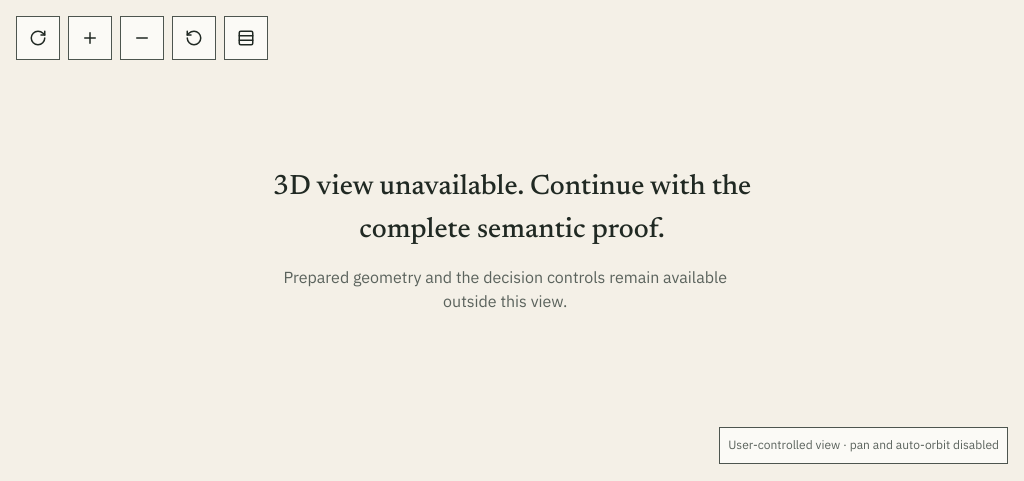
Test case: prepared scene canvas resilience › shows the error-boundary fallback without removing semantic controls
The image size is (1024, 481).
Expected: the picture named "Semantic fallback for the prepared dining room" shows "3D view unavailable. Continue with the complete semantic proof.", [273,173,751,244]
Expected: the button named "Rotate view" is enabled, [16,16,60,60]
Click the button named "Open semantic scene".
click(246, 38)  # box [224,16,268,60]
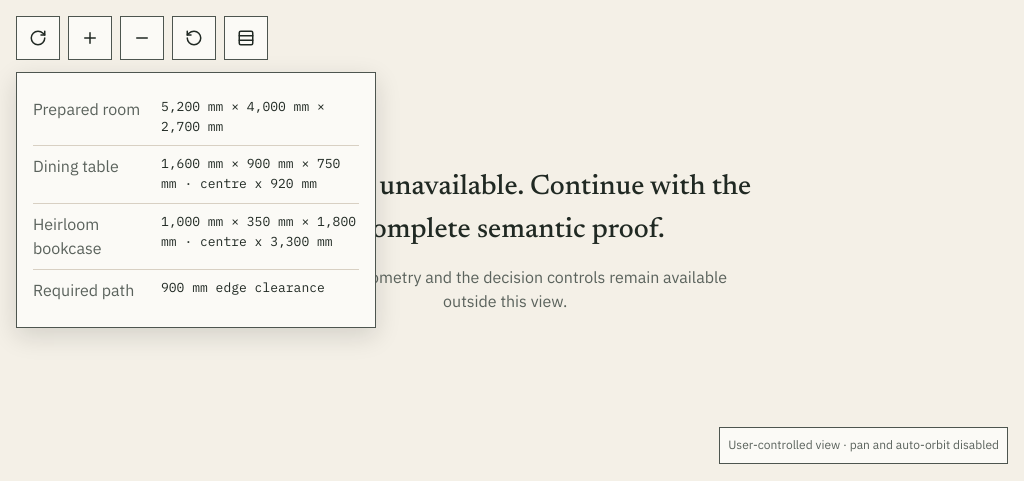
Expected: the text "1,600 mm × 900 mm × 750 mm · centre x 920 mm" is shown, [161,154,359,195]
Expected: the text "900 mm edge clearance" is shown, [161,279,325,296]
